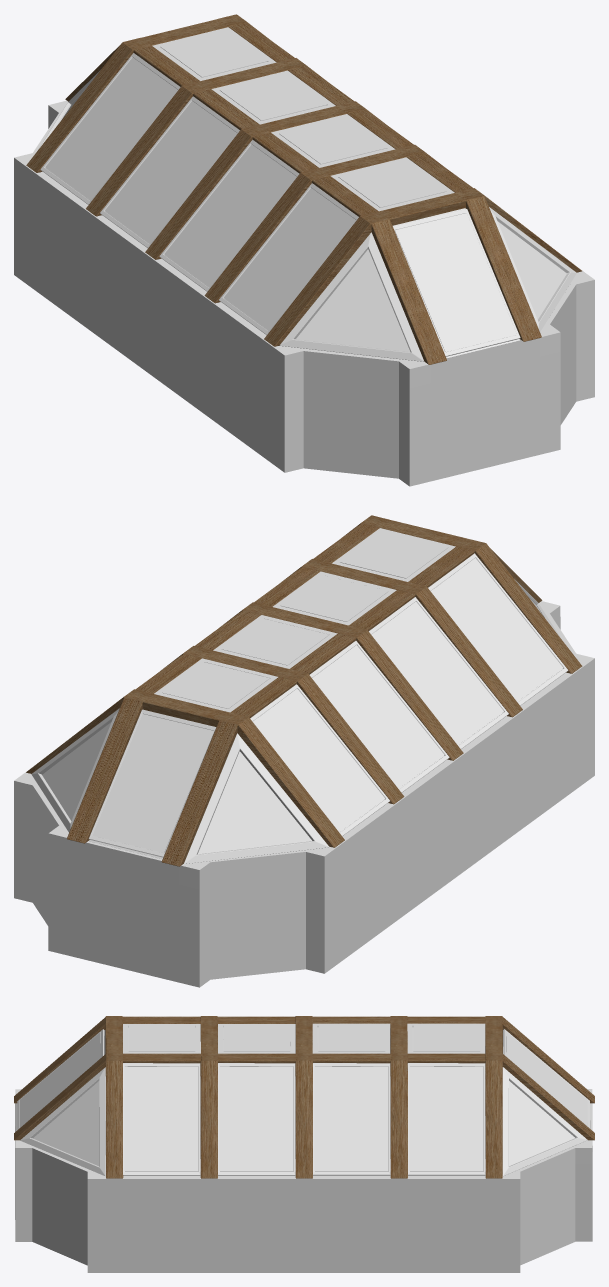
The model's file is room_with_windows_extra_small.fbx.
3 renders of one model, top to bottom at view 1: azimuth 30°, elevation 25°; view 2: azimuth 150°, elevation 25°; view 3: azimuth 270°, elevation 25°, orthographic. The views are drawn at different scales.
Visible parts, largest first — view 1: walls, glas.001, roof_structure2, roof_structure1, glas, glas.002, Cube.040, window.004, windowframe2, Cube.041, Cube.037, Cube.036 (+1 smaller); view 2: walls, glas.001, roof_structure2, roof_structure1, glas, glas.002, Cube.038, window.004, windowframe2, Cube.039, Cube.023, Cube.010 (+1 smaller); view 3: walls, glas.001, roof_structure2, roof_structure1, glas, window.004, glas.002, windowframe2, Cube.037, Cube.023, Cube.010, Cube.036 (+1 smaller).
Part boxes in pixels (bbox=[...]): walls: bbox=[14, 100, 594, 486]; glas.001: bbox=[45, 57, 356, 330]; roof_structure2: bbox=[26, 14, 581, 346]; roof_structure1: bbox=[65, 16, 541, 364]; glas: bbox=[160, 30, 446, 207]; glas.002: bbox=[395, 213, 516, 352]; Cube.040: bbox=[296, 249, 410, 351]; window.004: bbox=[40, 53, 358, 335]; windowframe2: bbox=[152, 27, 454, 211]; Cube.041: bbox=[279, 232, 424, 361]; Cube.037: bbox=[497, 221, 566, 319]; Cube.036: bbox=[489, 207, 576, 331]; walls: bbox=[14, 601, 594, 987]; glas.001: bbox=[253, 558, 563, 831]; roof_structure2: bbox=[26, 515, 582, 847]; roof_structure1: bbox=[67, 523, 542, 866]; glas: bbox=[162, 531, 447, 708]; glas.002: bbox=[92, 714, 214, 852]; Cube.038: bbox=[198, 751, 311, 854]; window.004: bbox=[250, 553, 568, 836]; windowframe2: bbox=[154, 528, 455, 712]; Cube.039: bbox=[184, 733, 329, 863]; Cube.023: bbox=[42, 722, 111, 820]; Cube.010: bbox=[31, 708, 119, 832]; walls: bbox=[15, 1076, 592, 1272]; glas.001: bbox=[125, 1066, 483, 1171]; roof_structure2: bbox=[105, 1016, 502, 1178]; roof_structure1: bbox=[14, 1016, 594, 1140]; glas: bbox=[128, 1025, 480, 1051]; window.004: bbox=[123, 1063, 485, 1175]; glas.002: bbox=[20, 1032, 587, 1127]; windowframe2: bbox=[123, 1023, 485, 1053]; Cube.037: bbox=[33, 1081, 99, 1165]; Cube.023: bbox=[509, 1081, 574, 1165]; Cube.010: bbox=[502, 1067, 587, 1176]; Cube.036: bbox=[20, 1067, 105, 1176].
Size of the model in its own units: 665 by 444 by 1347.
